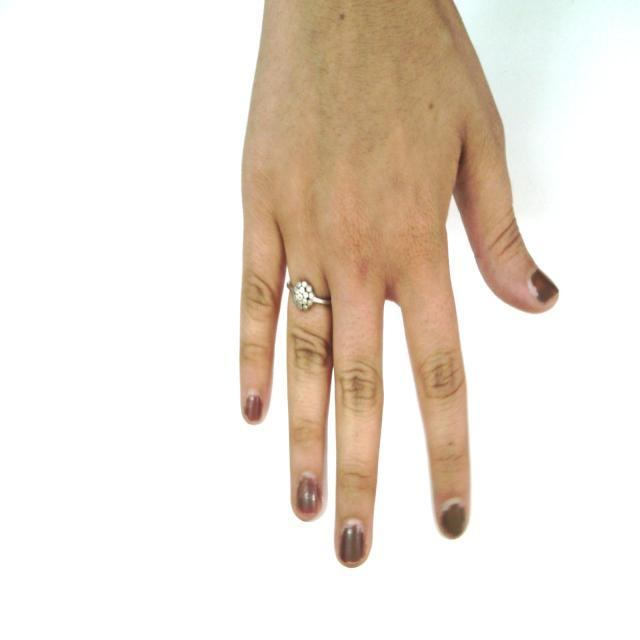Fingernail: (439, 497, 467, 540), (340, 518, 366, 563), (528, 268, 559, 304), (297, 471, 322, 514), (244, 390, 263, 423)
